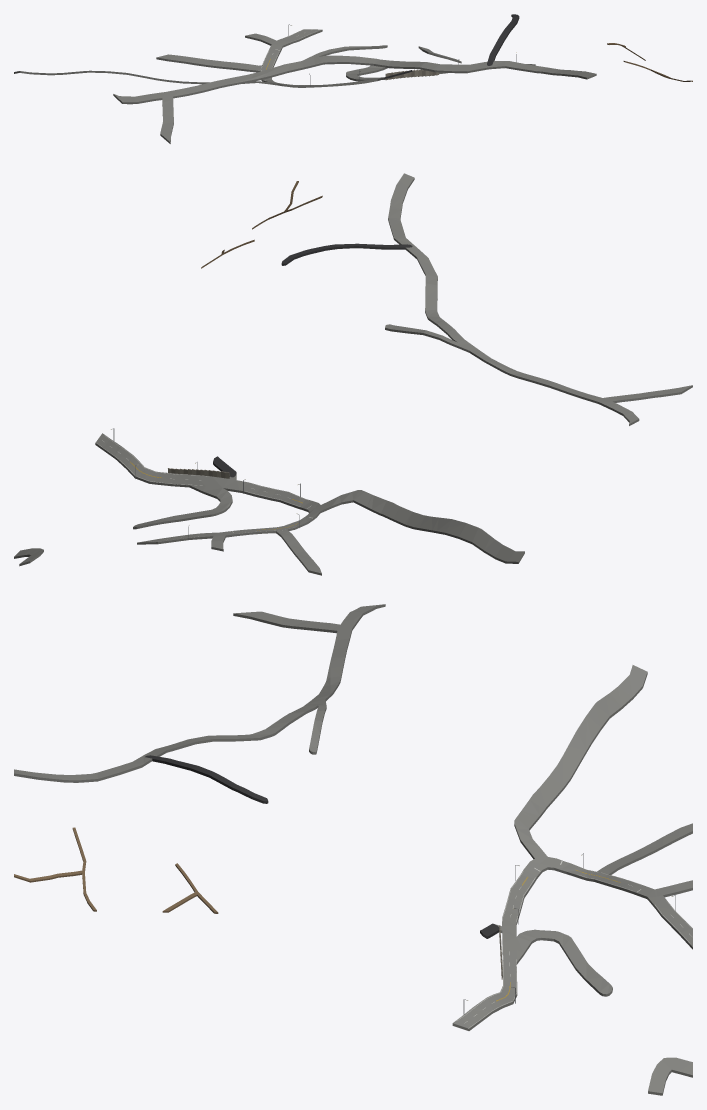
The picture shows the model from 3 angles, top to bottom: view 1: azimuth 30°, elevation 25°; view 2: azimuth 150°, elevation 25°; view 3: azimuth 270°, elevation 25°; orthographic projection. The views are drawn at different scales.
Bounding box in the file's own units: 294 × 121 × 292.
